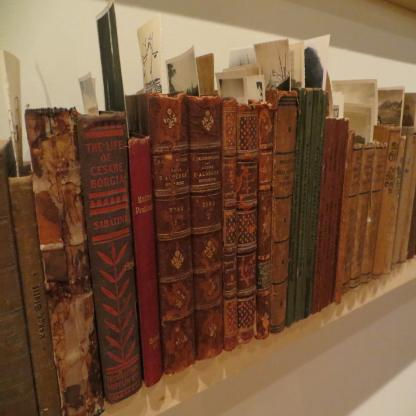book: (0, 81, 416, 416), (23, 106, 105, 416), (76, 110, 144, 408)
